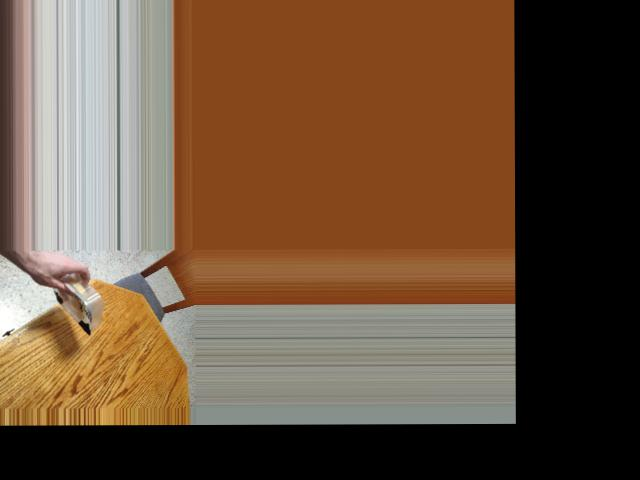cheese: (45, 271, 117, 328)
